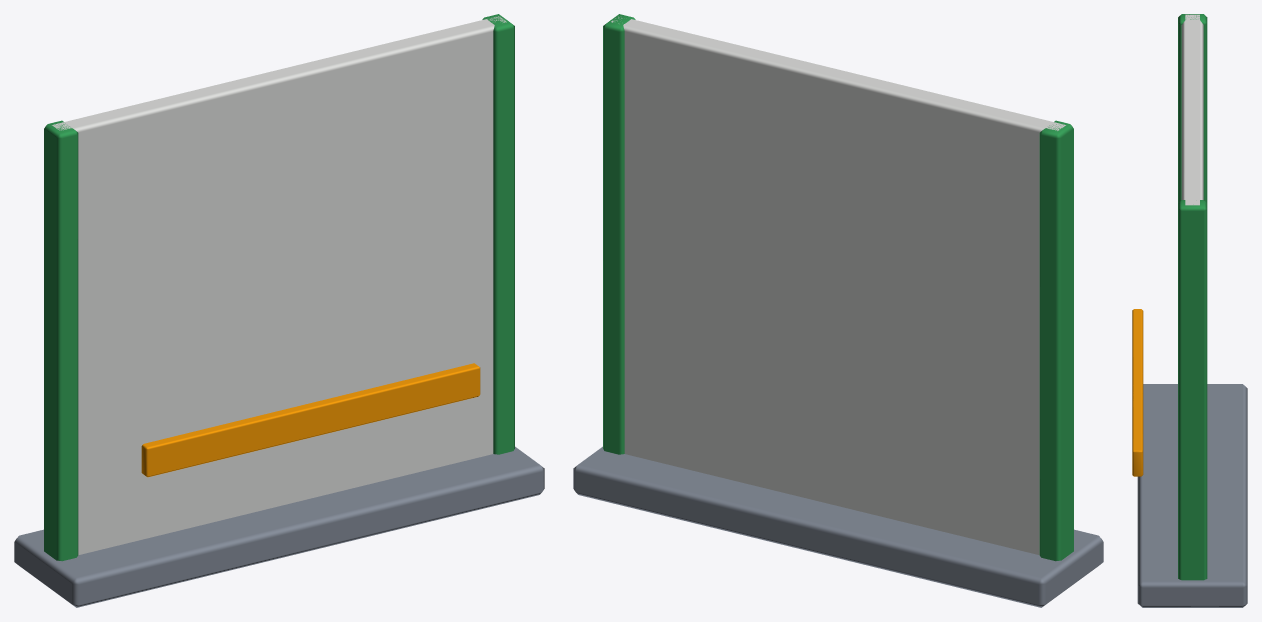
File: hoarding.glb
3 views of the same model, side by side, from view 1: azimuth 30°, elevation 25°; view 2: azimuth 150°, elevation 25°; view 3: azimuth 270°, elevation 25° (orthographic). The views are drawn at different scales.
Parts seen in each view (by area): view 1: hoarding; view 2: hoarding; view 3: hoarding.
Part boxes in pixels (box(x1,y1,x2,y2)): hoarding: box(14, 14, 544, 607); hoarding: box(573, 14, 1103, 607); hoarding: box(1132, 14, 1247, 607).
Bounding box in the file's own units: 2.6 × 2.4 × 0.63.
